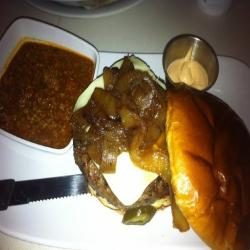burger: (69, 50, 250, 245)
